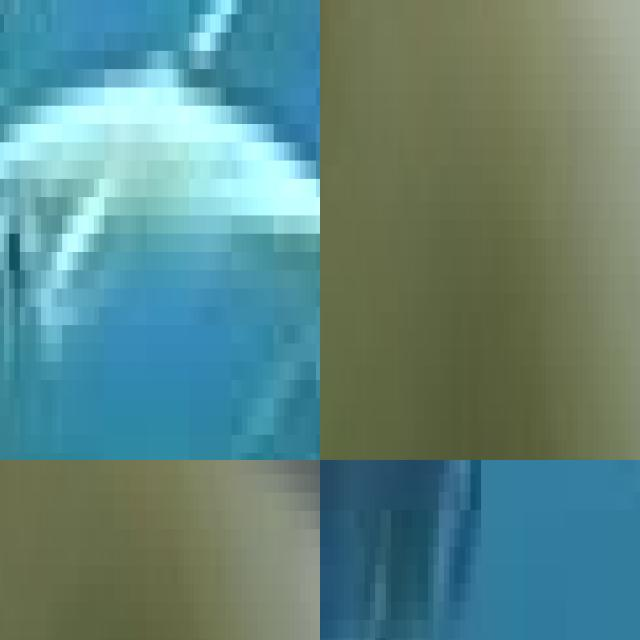fish: (0, 14, 320, 460), (0, 460, 320, 640)
